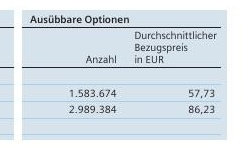table: (0, 0, 242, 149)
